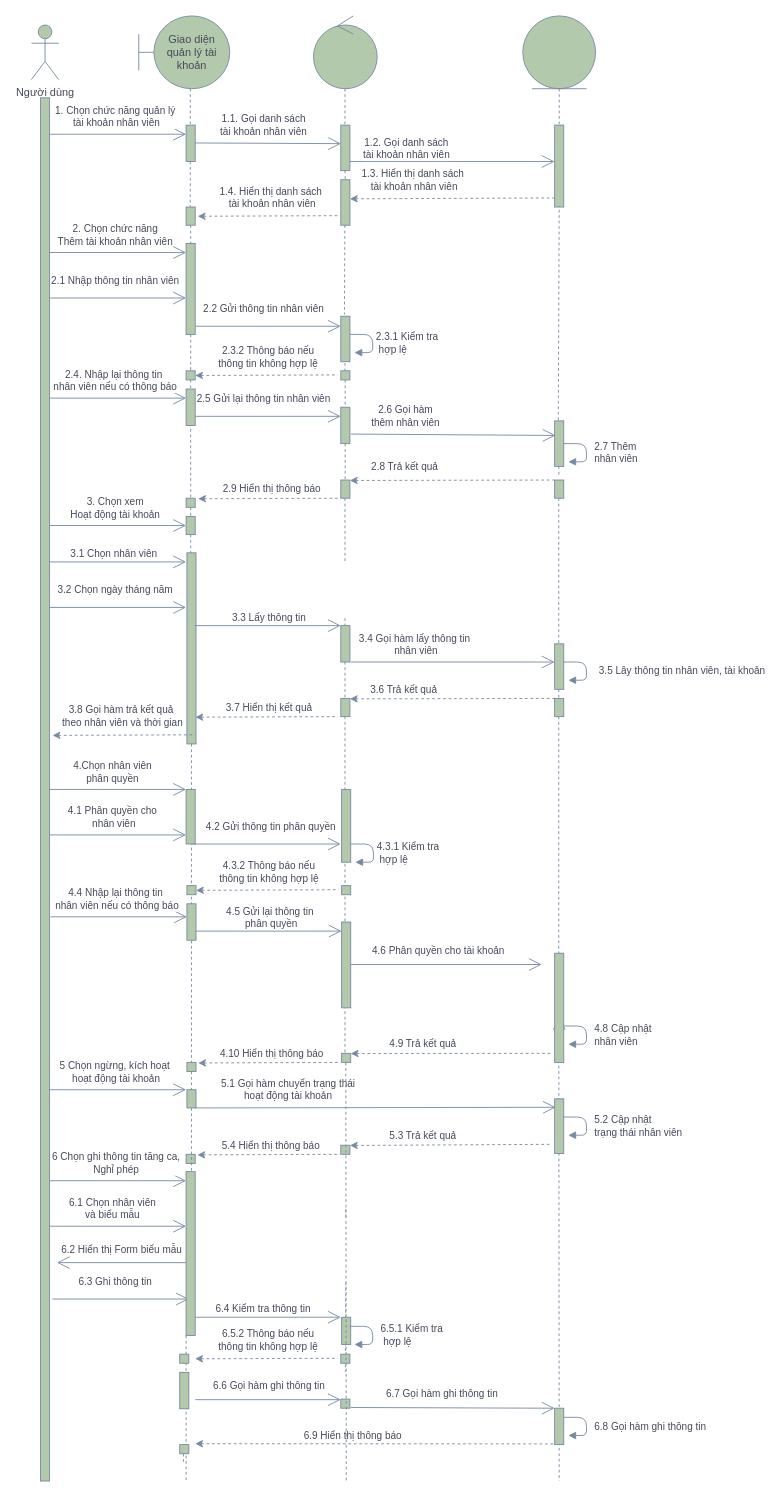
This 781x1498 diagram has some shape labels left out. Each missing label, with the centre of its shape:
"Quản lý tài khoản" goes at [345,52].
"Tài khoản" goes at [559,52].
